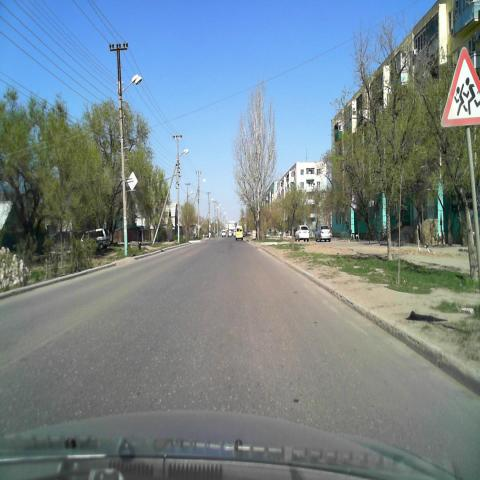1_23: (436, 45, 480, 129)
